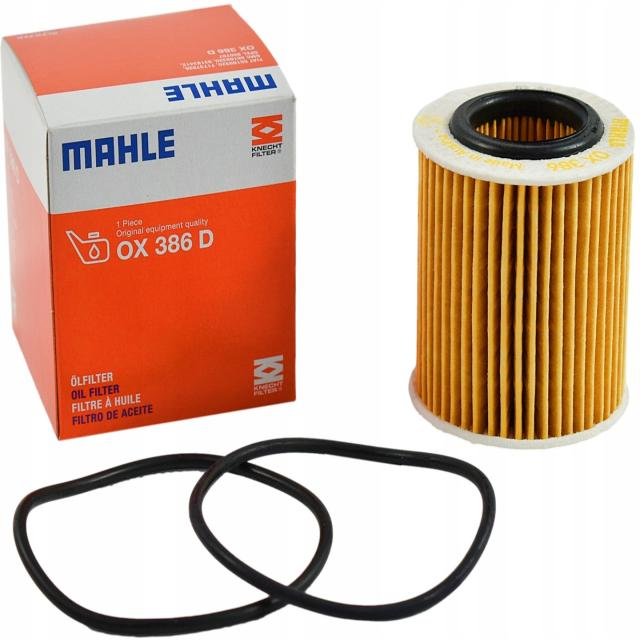oil_filter: (406, 73, 639, 454)
